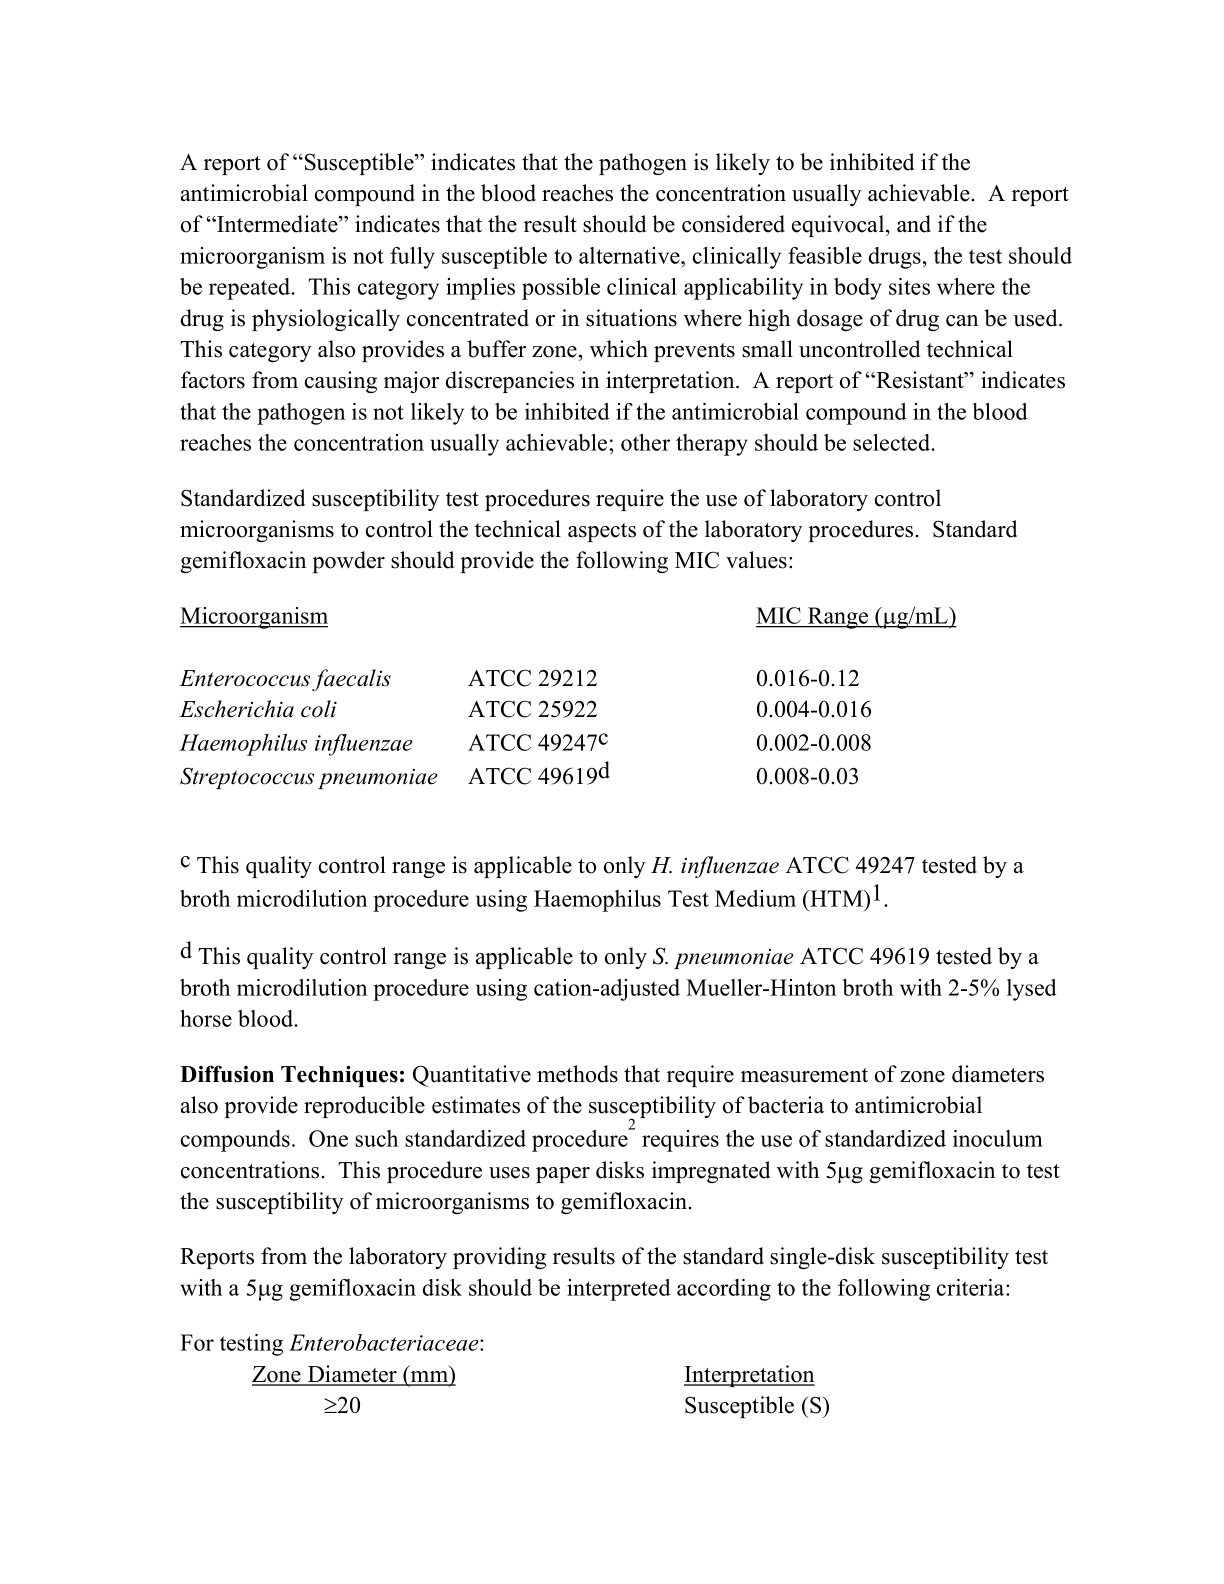nolines: (177, 600, 957, 786), (247, 1362, 831, 1419)
